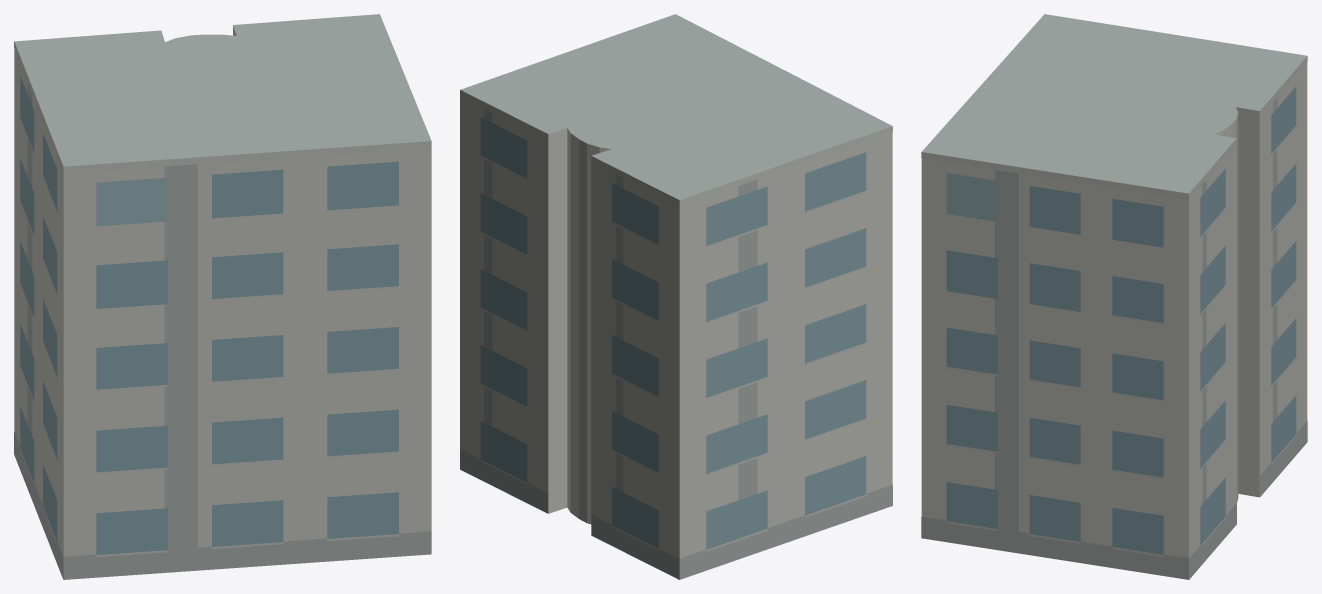
The model's file is survey-upis-32808817.glb.
The picture shows the model from 3 angles, left to right: view 1: azimuth 30°, elevation 25°; view 2: azimuth 150°, elevation 25°; view 3: azimuth 270°, elevation 25°; orthographic projection. The views are drawn at different scales.
Parts seen in each view (by area): view 1: survey-upis-32808817.tmp; view 2: survey-upis-32808817.tmp; view 3: survey-upis-32808817.tmp.
Part boxes in pixels (x1,y1,x2,y2): survey-upis-32808817.tmp: [14, 14, 431, 579]; survey-upis-32808817.tmp: [460, 14, 892, 579]; survey-upis-32808817.tmp: [921, 14, 1307, 579].
Bounding box in the file's own units: 14.56 × 14.6 × 13.23.
